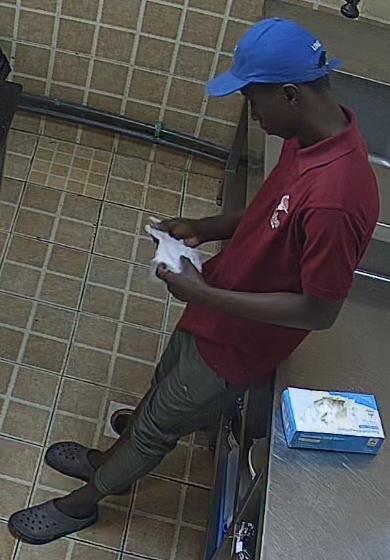no_apron: (177, 112, 381, 381)
